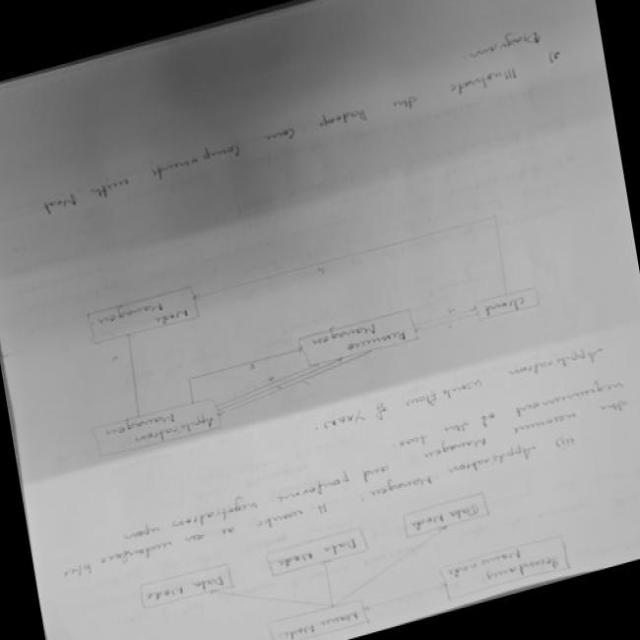Figure Detection - v3 Dataset Version2: (64, 181, 560, 485), (132, 454, 575, 640)
